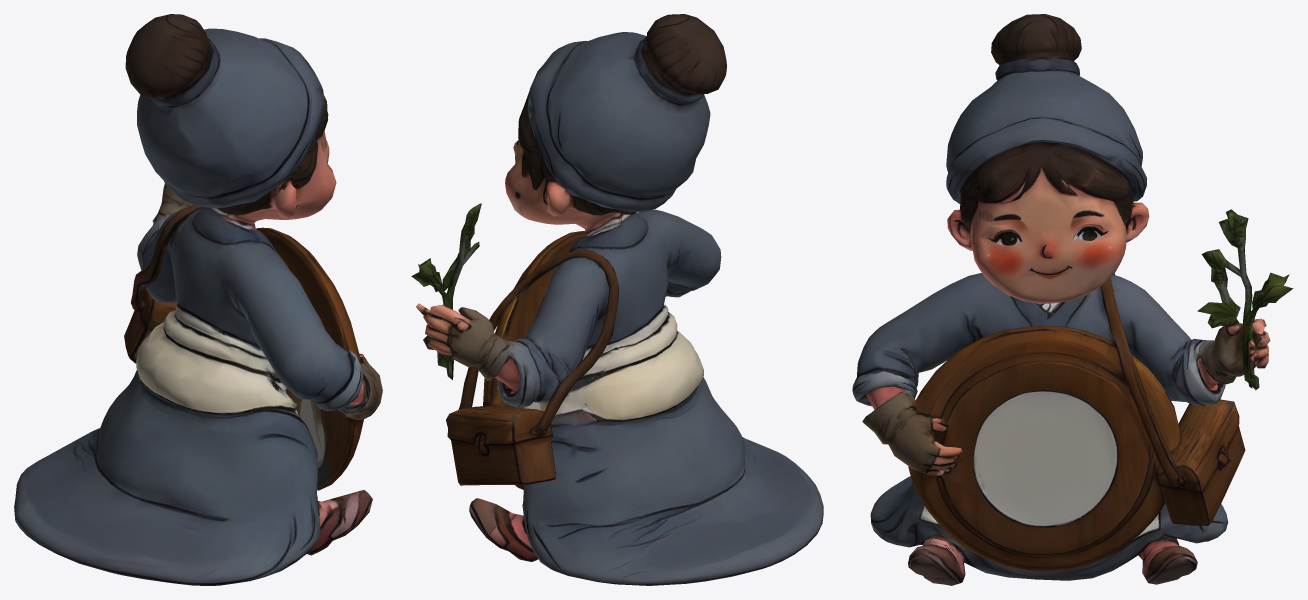
File: n_w18_ming_doctor.glb
The picture shows the model from 3 angles, left to right: view 1: azimuth 30°, elevation 25°; view 2: azimuth 150°, elevation 25°; view 3: azimuth 270°, elevation 25°; orthographic projection.
Visible parts, largest first — view 1: tripo_node_3aabd188-da64-41ad-9d1f-e89dd58f218f; view 2: tripo_node_3aabd188-da64-41ad-9d1f-e89dd58f218f; view 3: tripo_node_3aabd188-da64-41ad-9d1f-e89dd58f218f.
Boxes of the visible parts, x1,y1,x2,y2 form: tripo_node_3aabd188-da64-41ad-9d1f-e89dd58f218f: (14,14,382,585); tripo_node_3aabd188-da64-41ad-9d1f-e89dd58f218f: (411,14,823,585); tripo_node_3aabd188-da64-41ad-9d1f-e89dd58f218f: (852,14,1293,585).
Bounding box in the file's own units: 0.5819 × 1 × 0.7638.
1 material, 1 textured.
